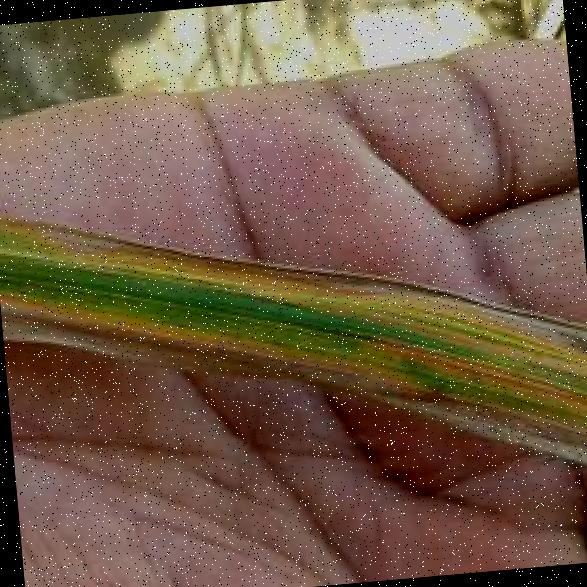Bacteria_Leaf_Blight: (38, 158, 521, 466)
